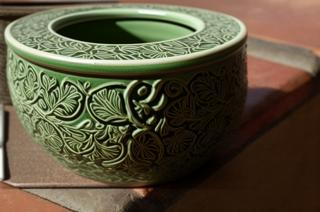pottedplant: (2, 1, 247, 188)
